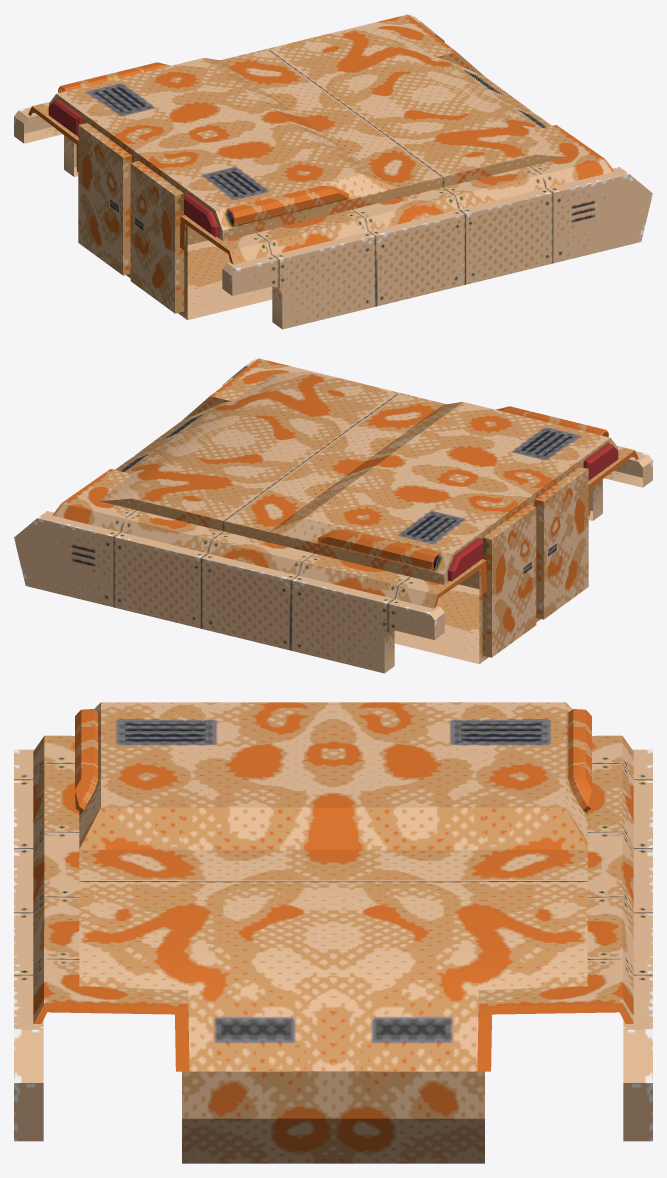
The model's file is TANK_BODY_1.fbx.
3 views of the same model, one above another, from view 1: azimuth 30°, elevation 25°; view 2: azimuth 150°, elevation 25°; view 3: azimuth 270°, elevation 25° (orthographic). The views are drawn at different scales.
Visible parts, largest first — view 1: Cube.001, Cube.003; view 2: Cube.001, Cube.003; view 3: Cube.001.
Part boxes in pixels (x1=…): Cube.001: x1=14, y1=14, x2=652, y2=329; Cube.003: x1=48, y1=99, x2=218, y2=237; Cube.001: x1=14, y1=358, x2=652, y2=673; Cube.003: x1=448, y1=443, x2=618, y2=581; Cube.001: x1=14, y1=702, x2=652, y2=1163.
Bounding box in the file's own units: 94.9 × 28.28 × 85.33.
